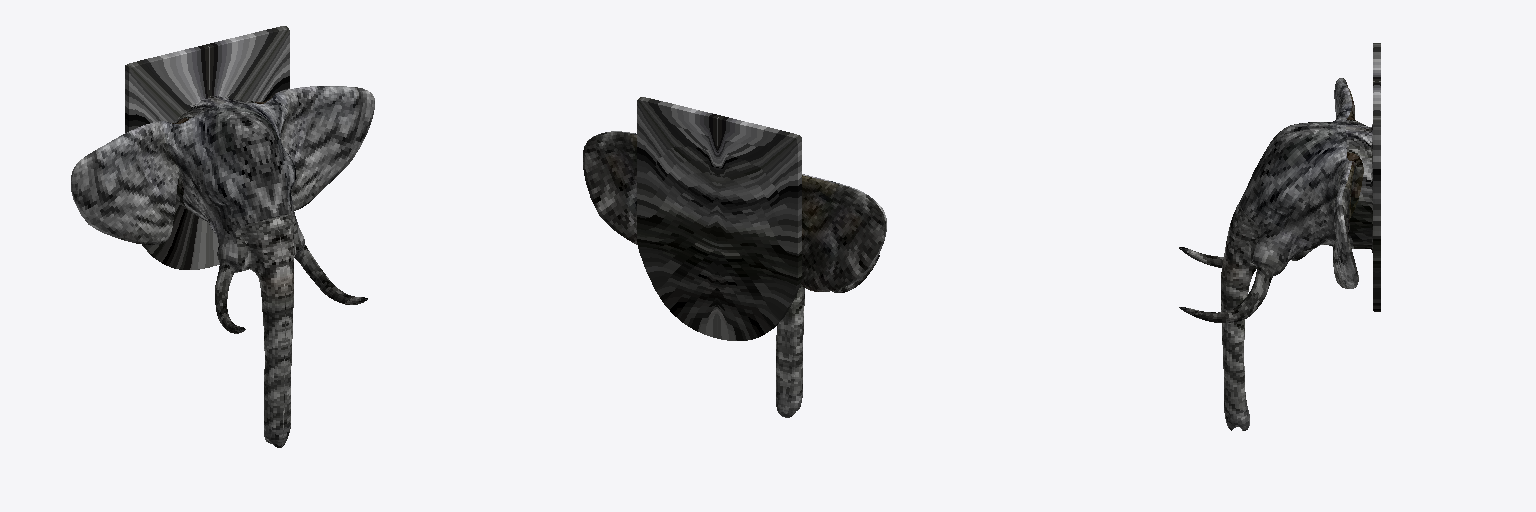
3 views of the same model, side by side, from view 1: azimuth 30°, elevation 25°; view 2: azimuth 150°, elevation 25°; view 3: azimuth 270°, elevation 25° (orthographic).
Visible parts, largest first — view 1: 13142_MountedElephantHead_V1; view 2: 13142_MountedElephantHead_V1; view 3: 13142_MountedElephantHead_V1.
Boxes of the visible parts, box(x1,y1,x2,y2) form: 13142_MountedElephantHead_V1: box(71, 26, 374, 447); 13142_MountedElephantHead_V1: box(583, 97, 886, 417); 13142_MountedElephantHead_V1: box(1179, 43, 1380, 430).
Size of the model in its own units: 0.9435 by 1.04 by 0.5464.
1 materials, 1 textured.